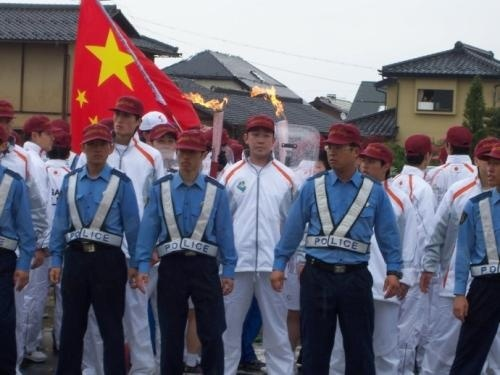fire: (250, 81, 284, 113), (184, 88, 229, 109)
